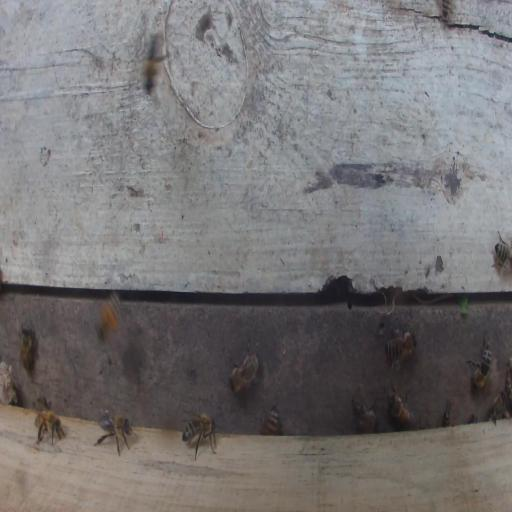nonpollenbee: (94, 405, 134, 458), (30, 398, 68, 445), (464, 334, 492, 391), (180, 412, 217, 455), (382, 324, 419, 364), (139, 33, 164, 92), (351, 386, 381, 434), (228, 353, 260, 393), (18, 320, 37, 373), (388, 389, 412, 430), (486, 387, 507, 429), (491, 233, 512, 270), (260, 403, 284, 435), (440, 409, 453, 427)
pollenbee: (91, 286, 124, 346)
